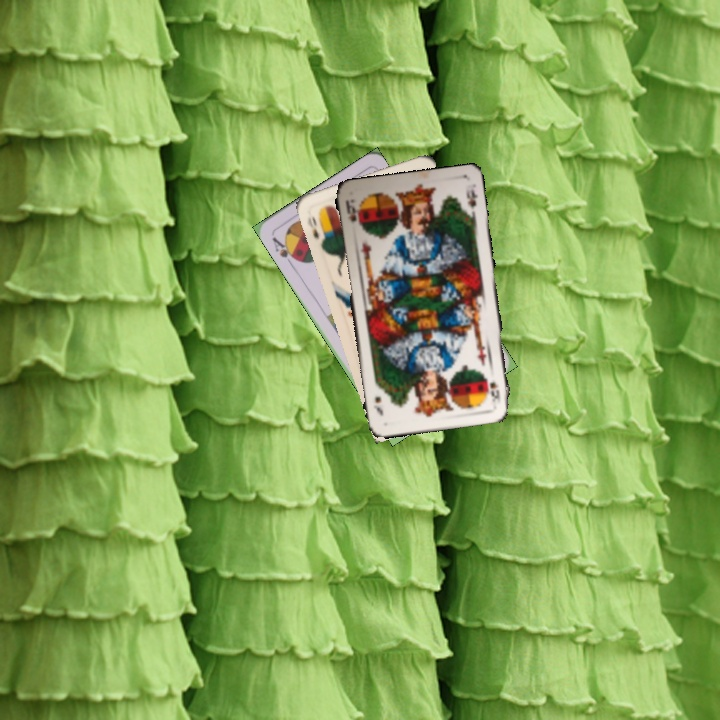EO: (303, 207, 328, 247)
SA: (268, 233, 300, 268)
SK: (341, 195, 362, 228), (485, 377, 503, 406)
